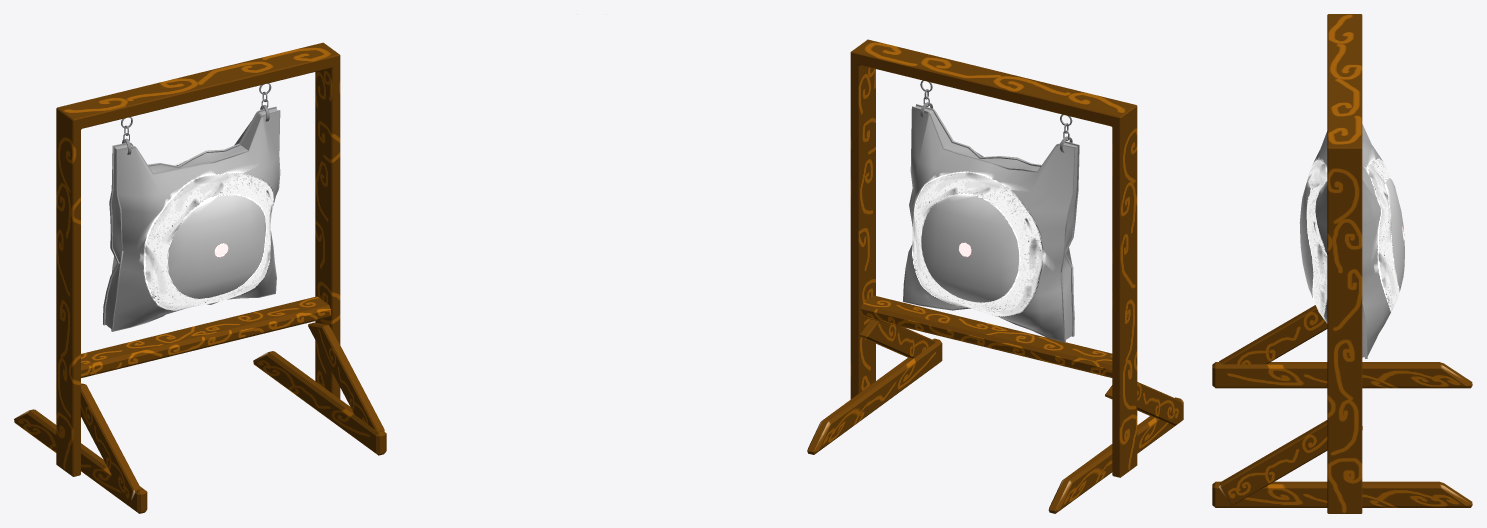
Rendered from target_for_bow_and_arrow.glb.
3 renders of one model, left to right at view 1: azimuth 30°, elevation 25°; view 2: azimuth 150°, elevation 25°; view 3: azimuth 270°, elevation 25°, orthographic. The views are drawn at different scales.
Visible parts, largest first — view 1: Frame_target, Frame_target_Target_TargetShape; view 2: Frame_target, Frame_target_Target_TargetShape; view 3: Frame_target, Frame_target_Target_TargetShape.
Boxes of the visible parts, x1,y1,x2,y2 form: Frame_target: (14,42,386,513); Frame_target_Target_TargetShape: (103,83,280,331); Frame_target: (807,39,1183,513); Frame_target_Target_TargetShape: (903,80,1079,342); Frame_target: (1212,14,1472,513); Frame_target_Target_TargetShape: (1299,124,1404,358).
Size of the model in its own units: 0.8943 by 0.5928 by 0.3813.
Materials: 1 (1 with a texture image).
